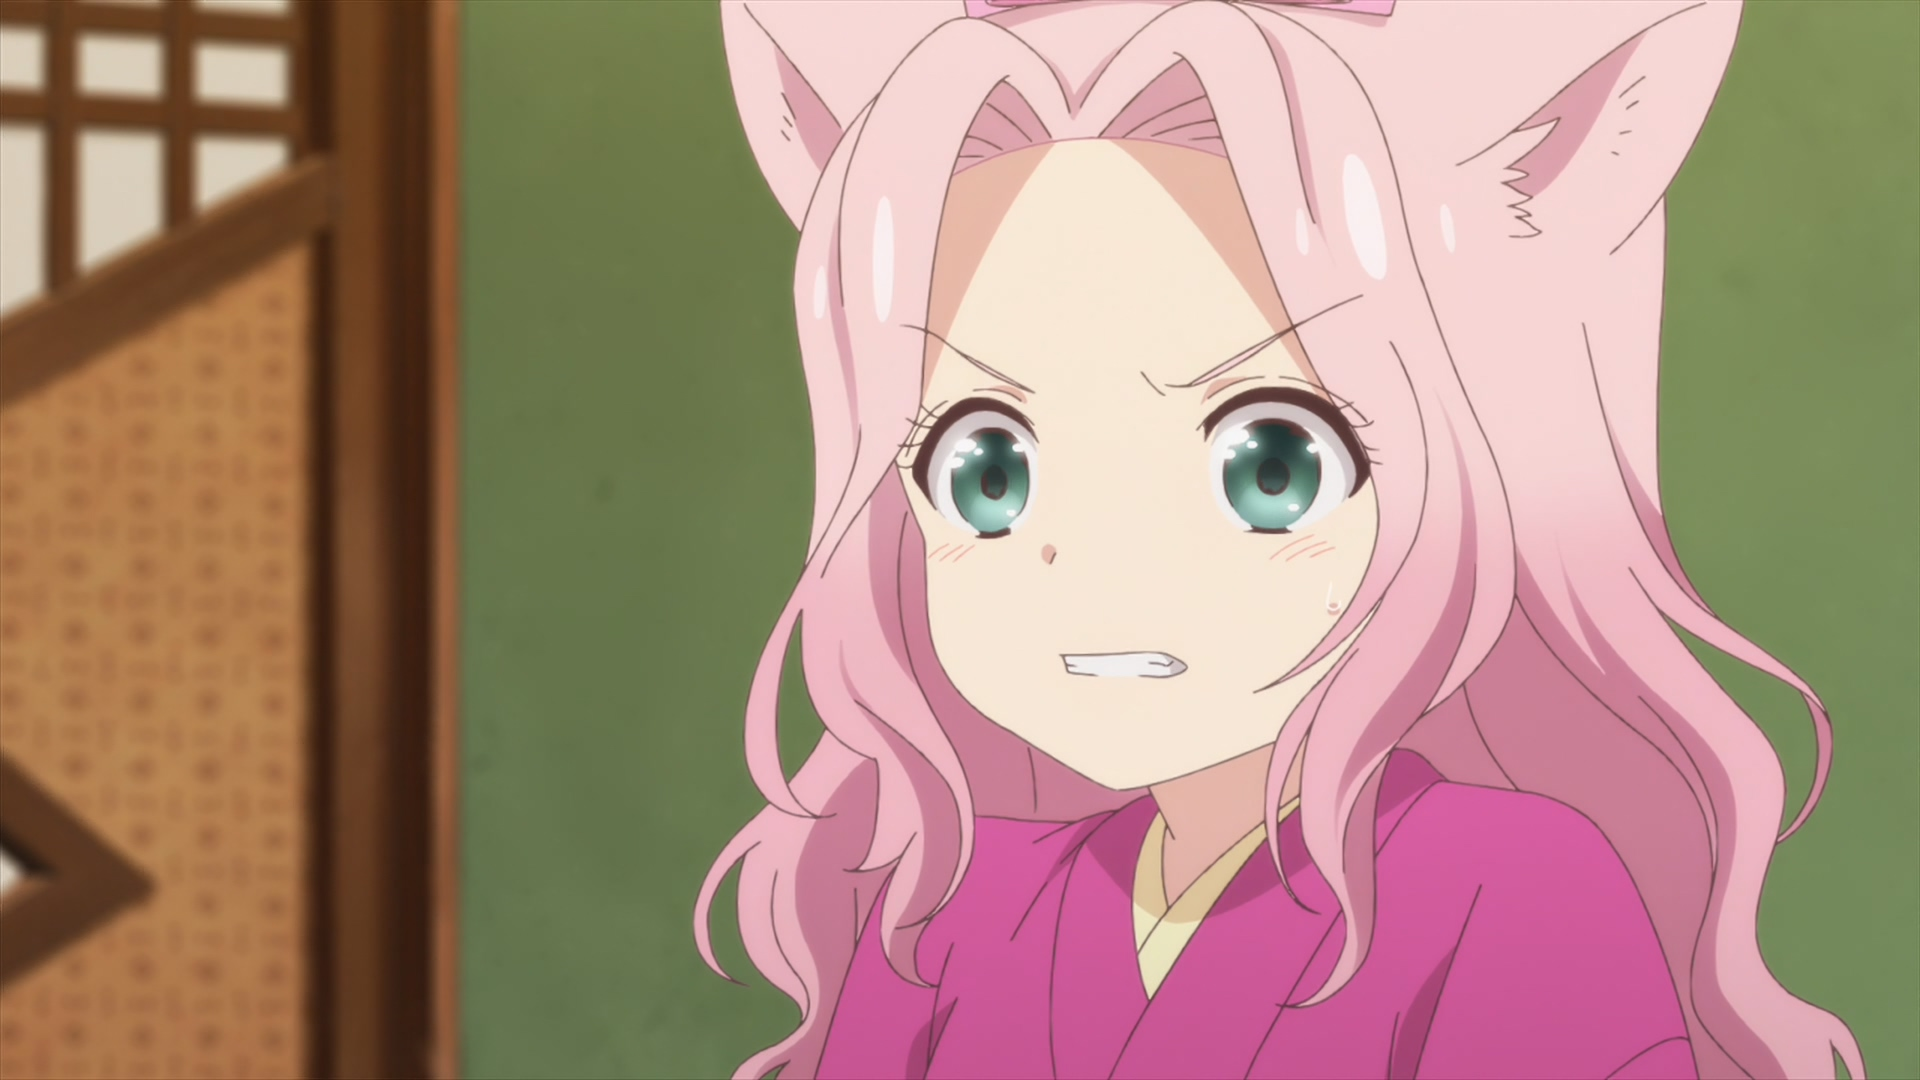莲: (692, 1, 1865, 1080)
